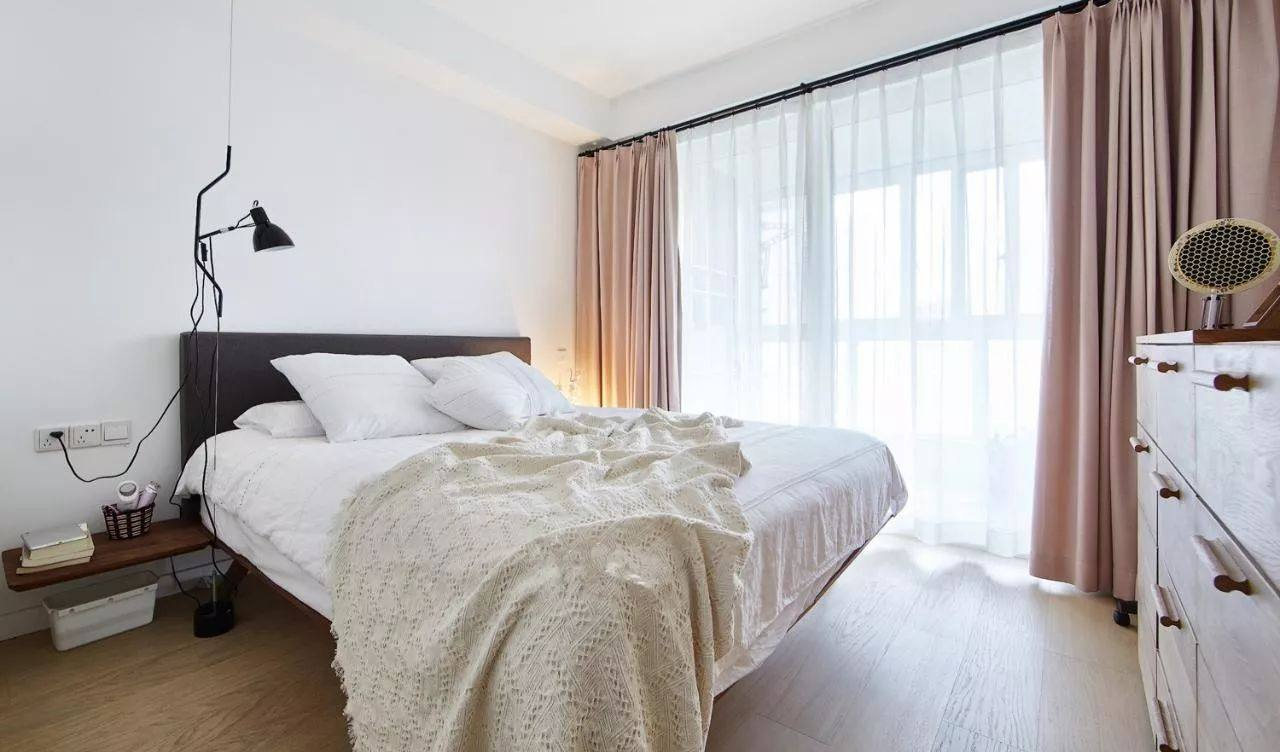床: (187, 406, 917, 731)
枕头: (266, 347, 574, 445)
灯: (180, 191, 294, 332)
